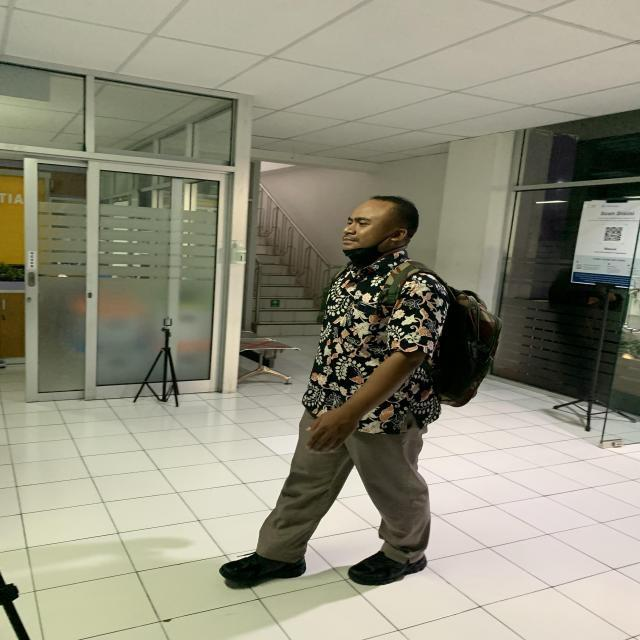hairnet: (338, 191, 422, 268)
